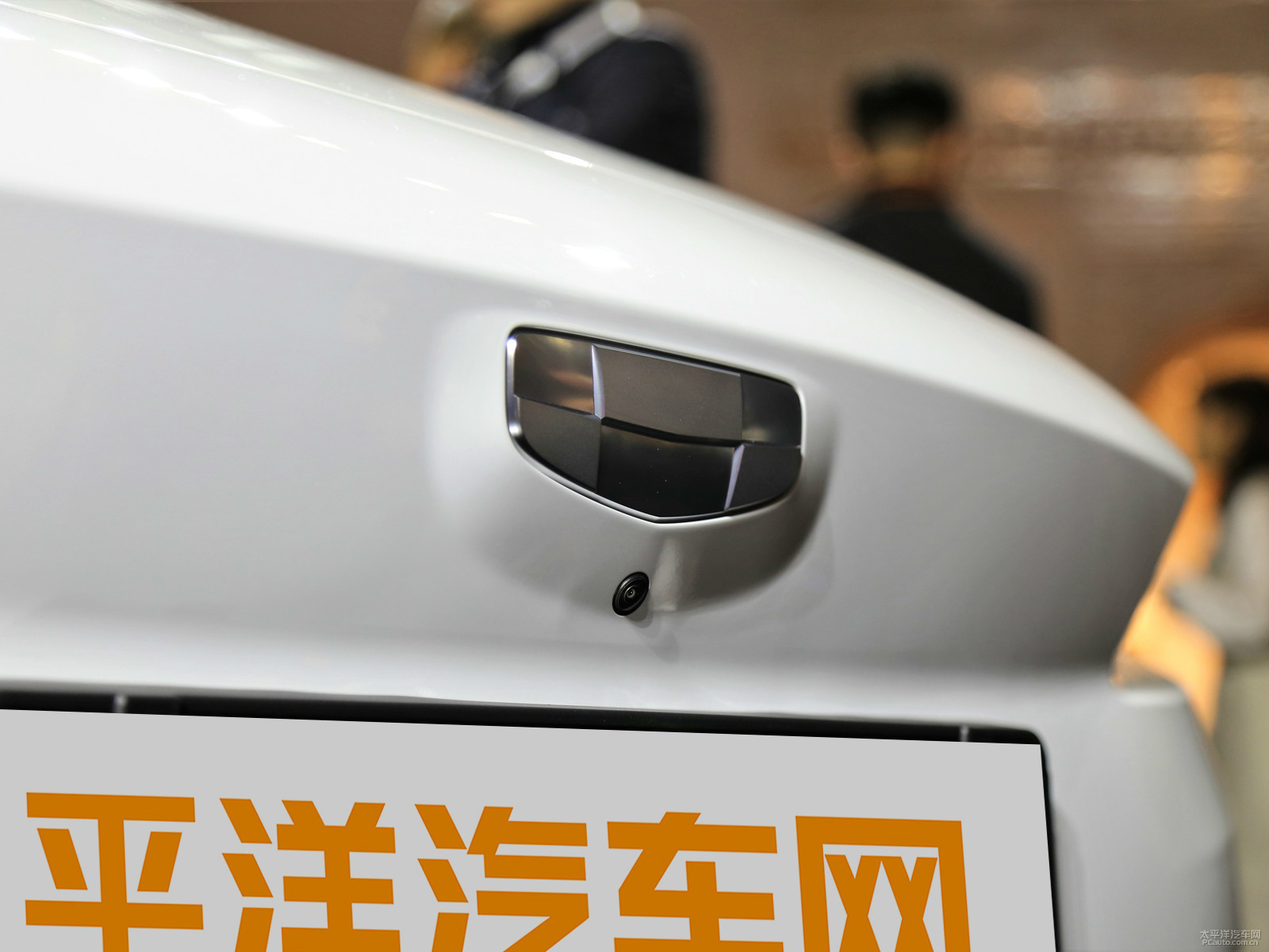GEOMETRY: (506, 328, 803, 517)
